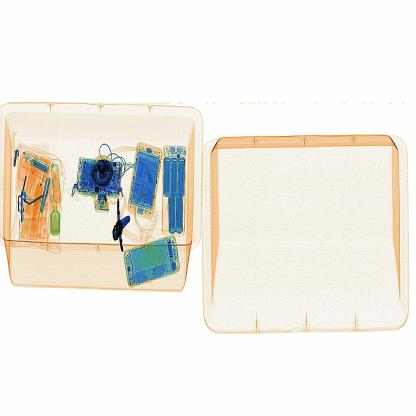wrench: (106, 188, 133, 256)
